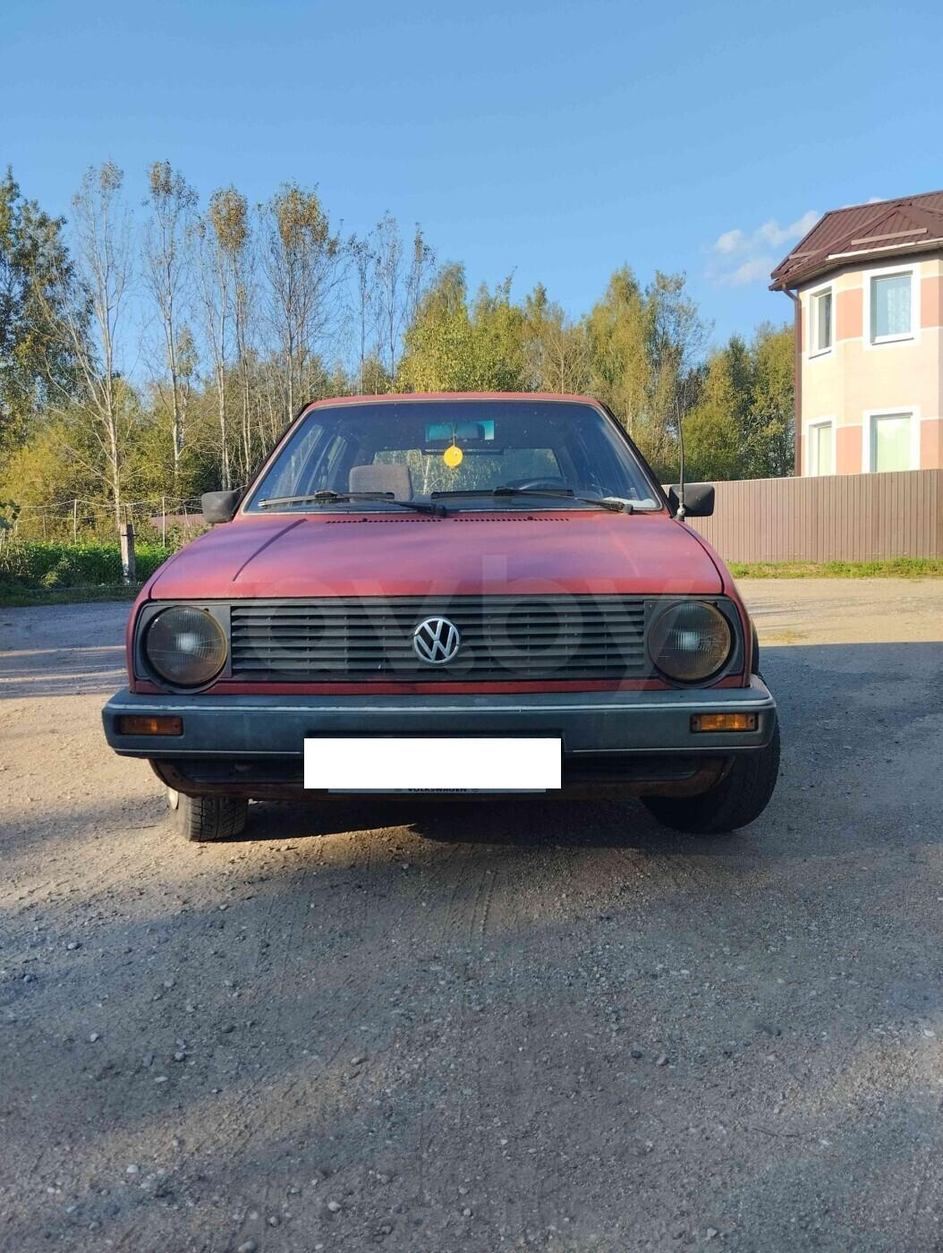Golf_1983-1992: (98, 385, 786, 845)
